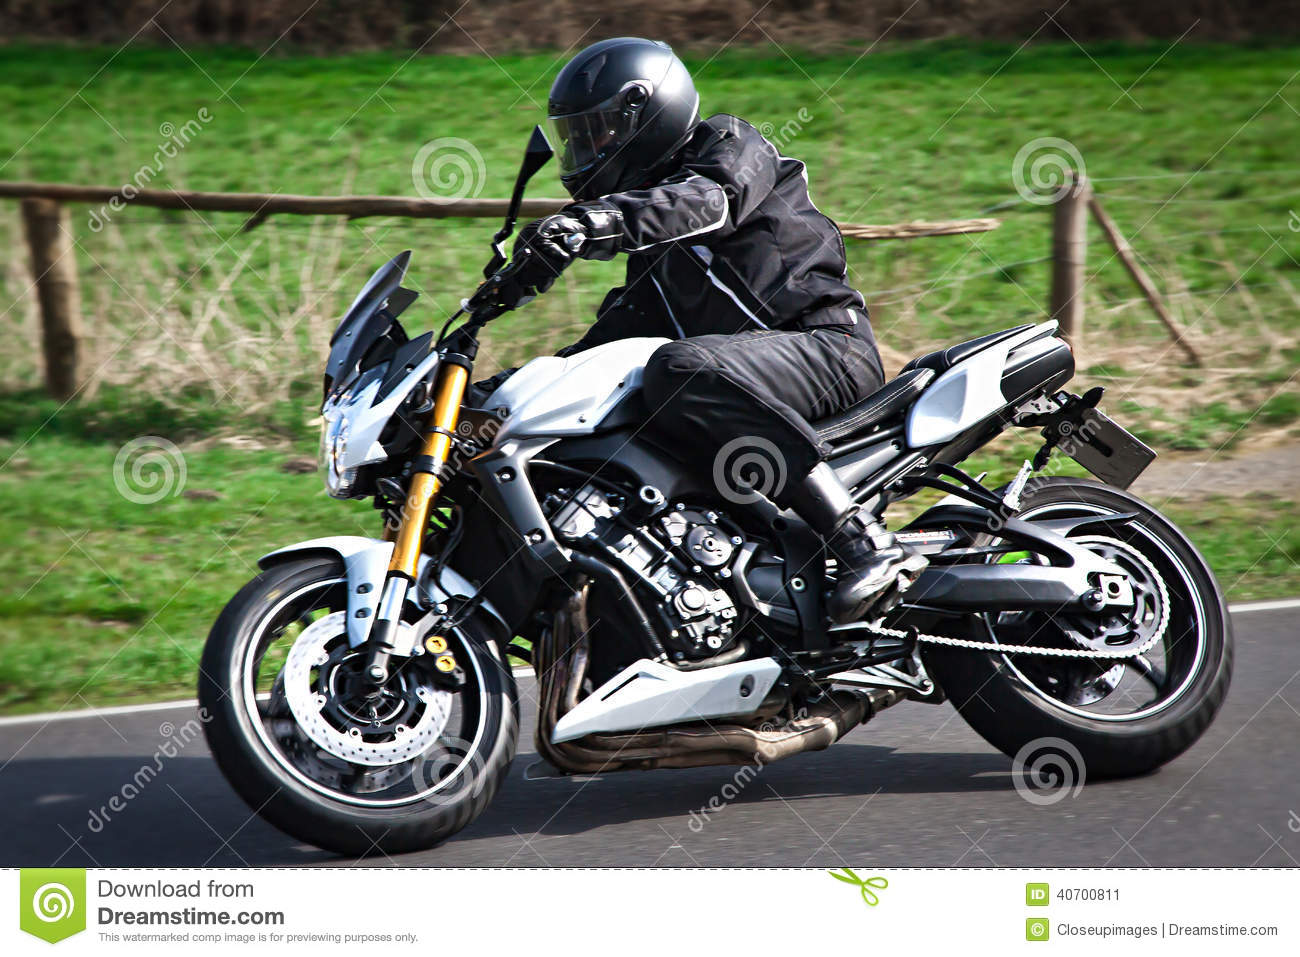helmet: (537, 41, 699, 192)
